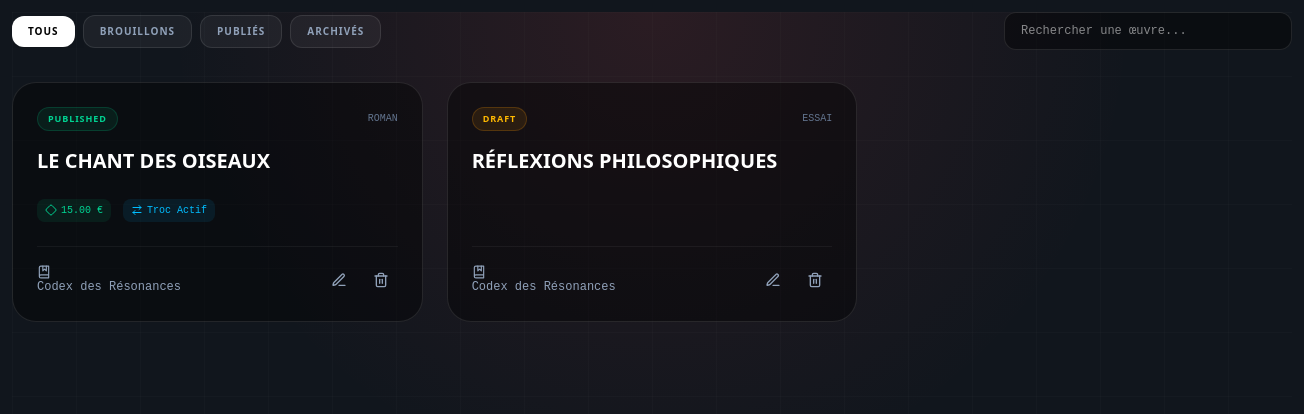
Test: UI & Logique : AuthorStudioView (Studio de l'Auteur) › 🟢 doit filtrer les manuscrits via la barre de recherche
Expected: the heading "Le Chant des Oiseaux" is shown, 37,146 -> 270,174
# Recherche par titre
Type "Chant" into the field with placeholder "Rechercher une œuvre..." at (1148, 31), box 1004,12 -> 1292,50
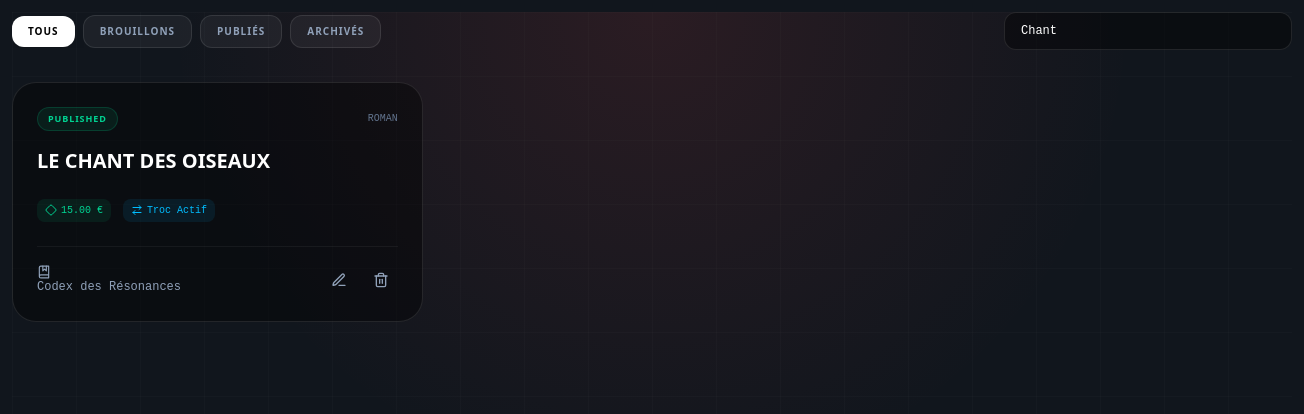
Expected: the heading "Le Chant des Oiseaux" is shown, 37,146 -> 270,174
Now the heading "Réflexions Philosophiques" is gone
# Recherche par type d'écrit (essai)
Replace the text in the field with placeholder "Rechercher une œuvre..." with "essai" at (1148, 31), box 1004,12 -> 1292,50
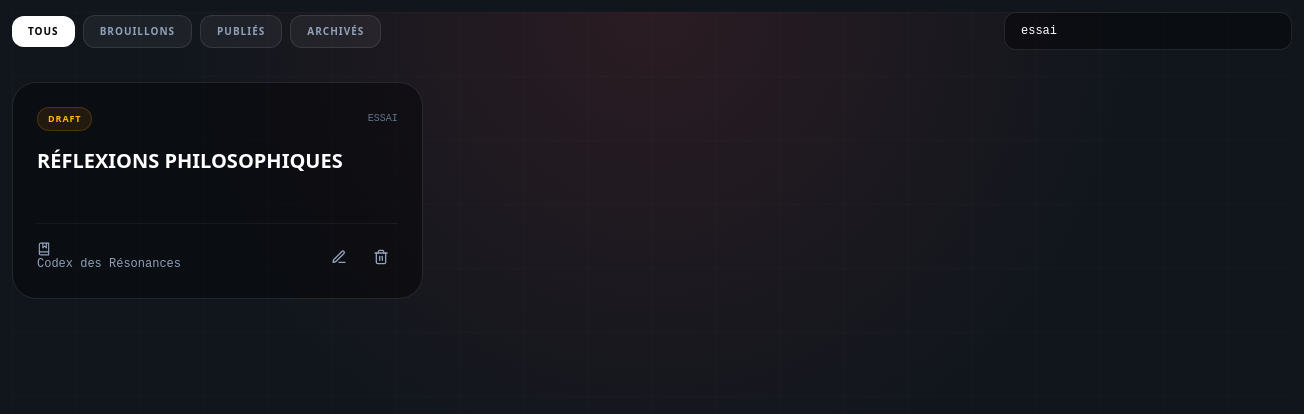
Now the heading "Réflexions Philosophiques" is shown, box 37,146 -> 343,174
Now the heading "Le Chant des Oiseaux" is gone
